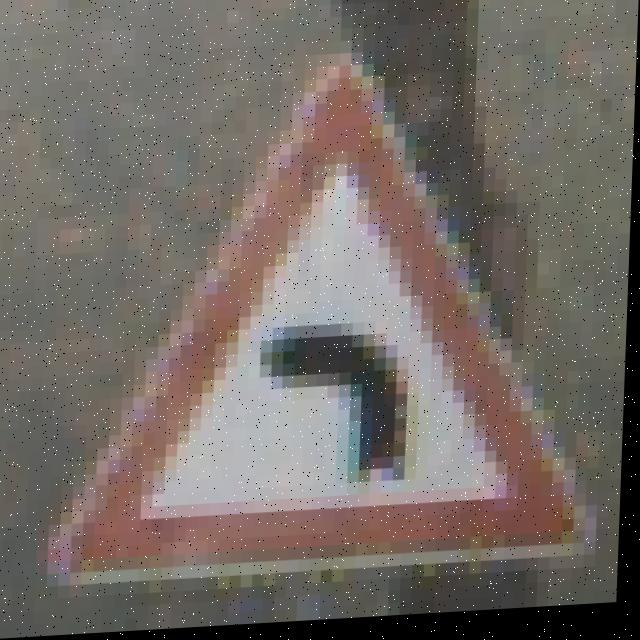left_turn: (143, 134, 556, 582)
